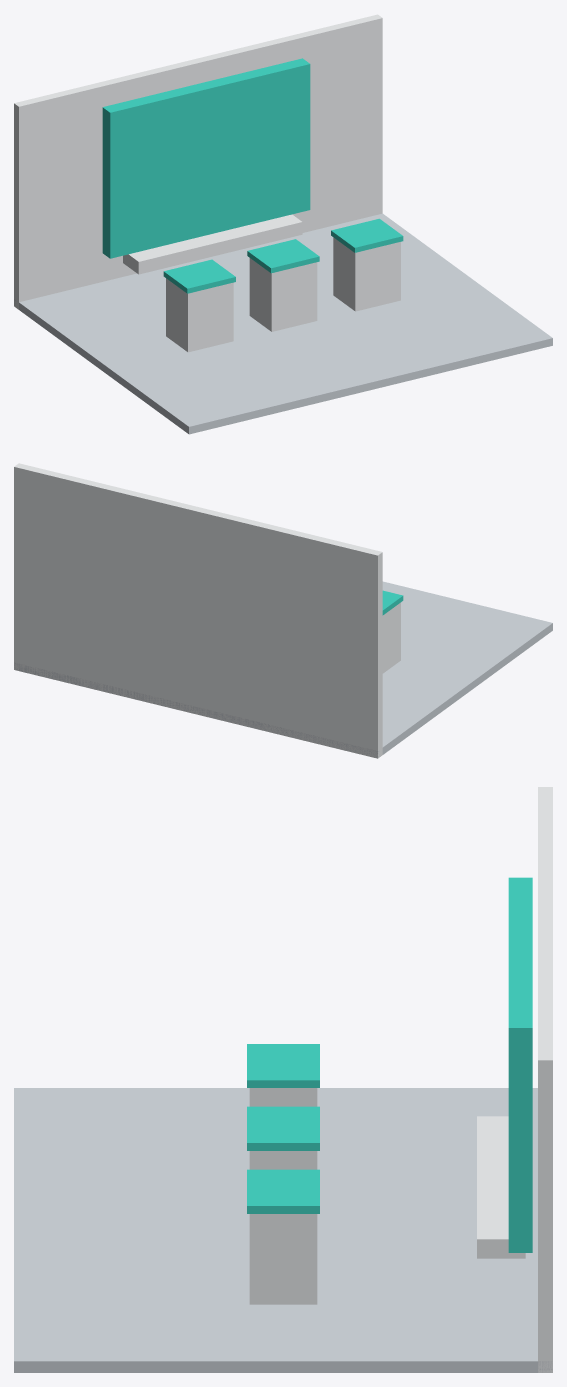
3 renders of one model, top to bottom at view 1: azimuth 30°, elevation 25°; view 2: azimuth 150°, elevation 25°; view 3: azimuth 270°, elevation 25°, orthographic. The views are drawn at different scales.
Parts seen in each view (by area): view 1: Exhibition Booth Concept; view 2: Exhibition Booth Concept; view 3: Exhibition Booth Concept.
Boxes of the visible parts, box(x1,y1,x2,y2) form: Exhibition Booth Concept: box(14, 14, 552, 434); Exhibition Booth Concept: box(14, 463, 552, 758); Exhibition Booth Concept: box(14, 787, 552, 1372).
Bounding box in the file's own units: 6 × 3.2 × 5.
